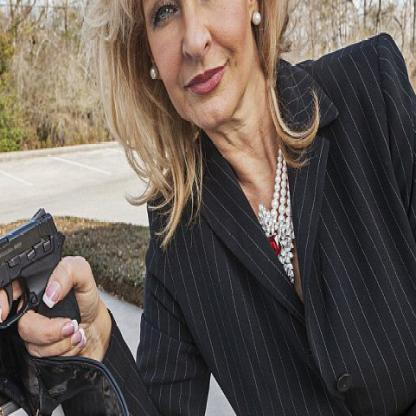gun: (0, 199, 102, 378)
